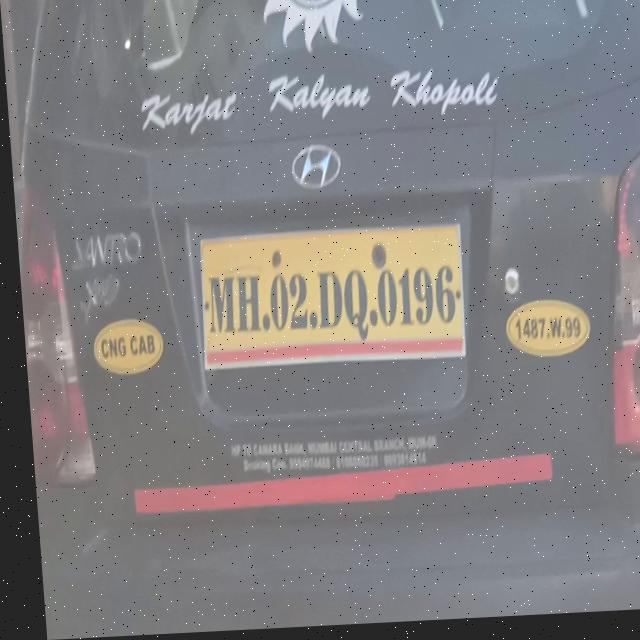plate: (190, 224, 464, 378)
